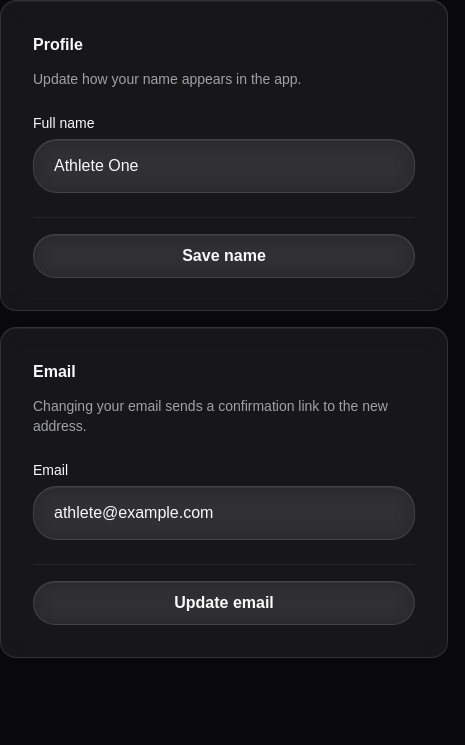
AthleteProfileSettings › saves the full name
The image size is (465, 745).
Replace the text in the field labelled "Full name" with "Alex Rivera". click: (224,166)
box: [33,139,415,193]
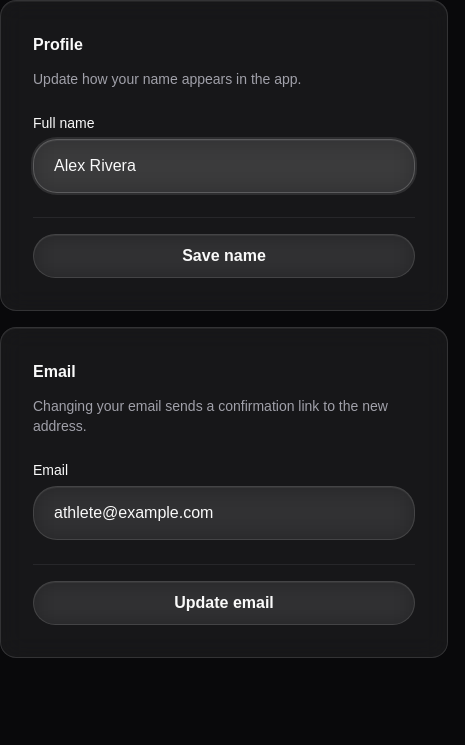
Click the button "Save name". click: (224,256)
box: [33,234,415,278]
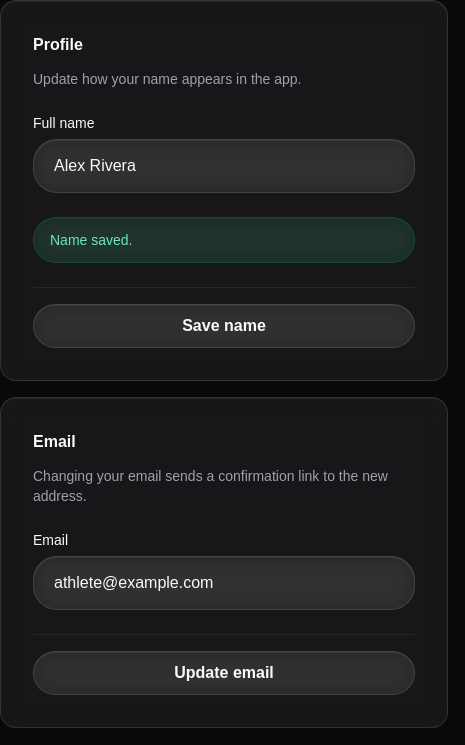
Expected: the text "Name saved." is shown, [33,217,415,263]
